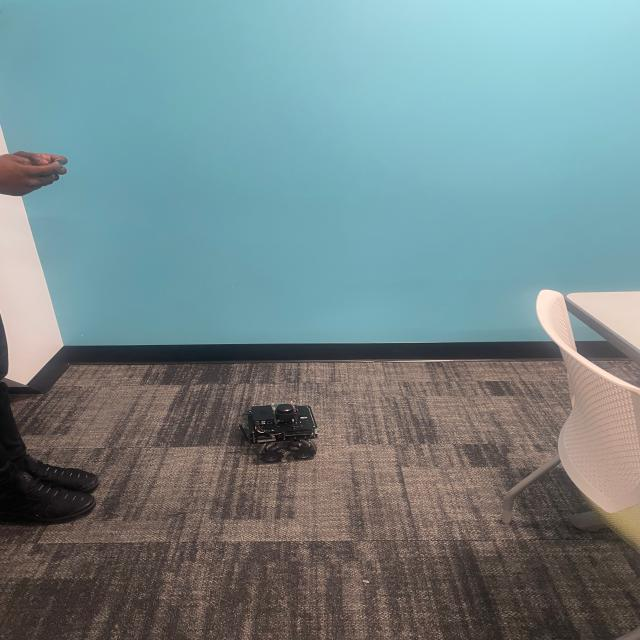ArduinoCar: (233, 397, 324, 465)
